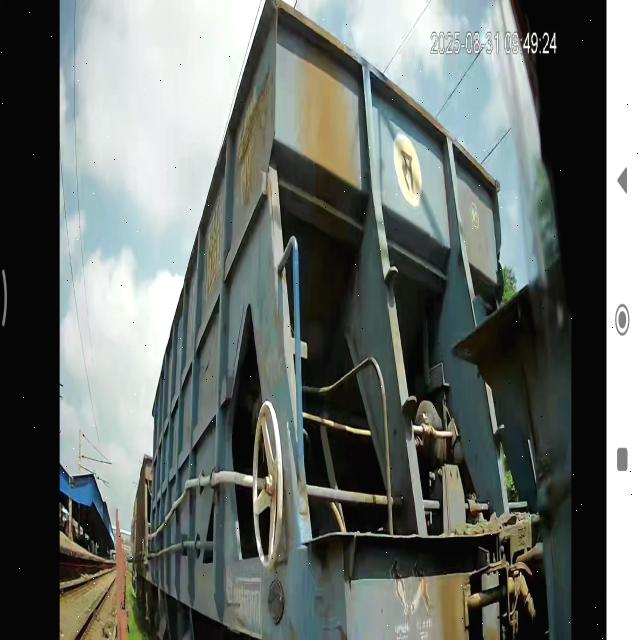coach: (155, 4, 279, 640)
